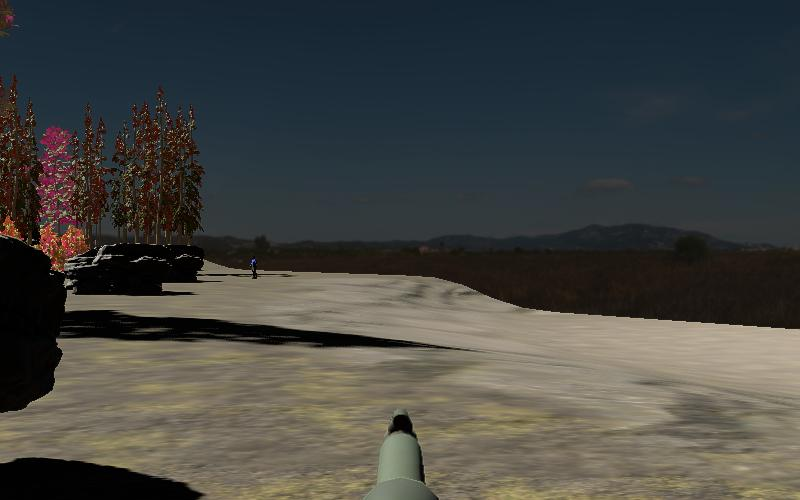Human: (247, 254, 261, 282)
